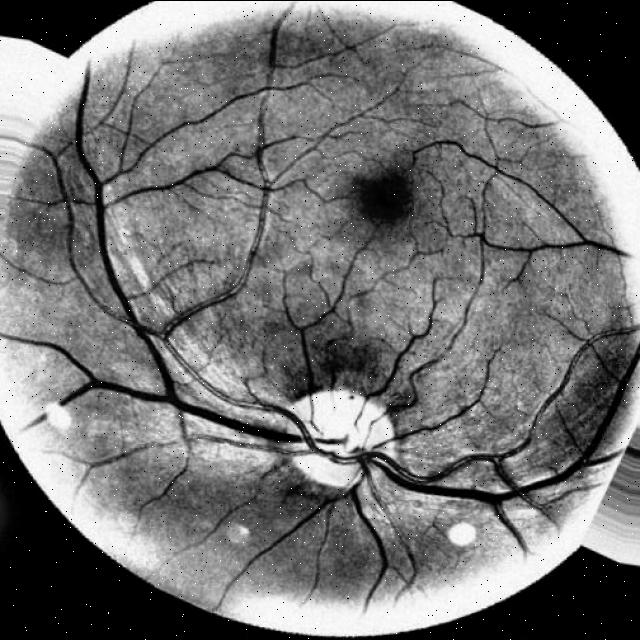Macula: (351, 169, 418, 234)
Nerves: (0, 75, 640, 611), (286, 255, 357, 385)
Optic Disk: (283, 387, 397, 486)
